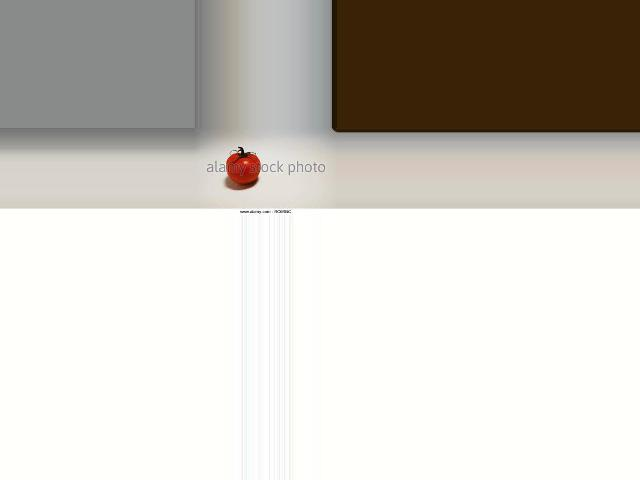tomato: (226, 152, 261, 184)
